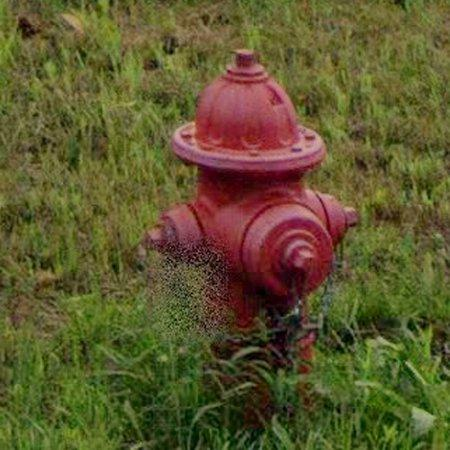a fire hydrant: (145, 50, 359, 328)
